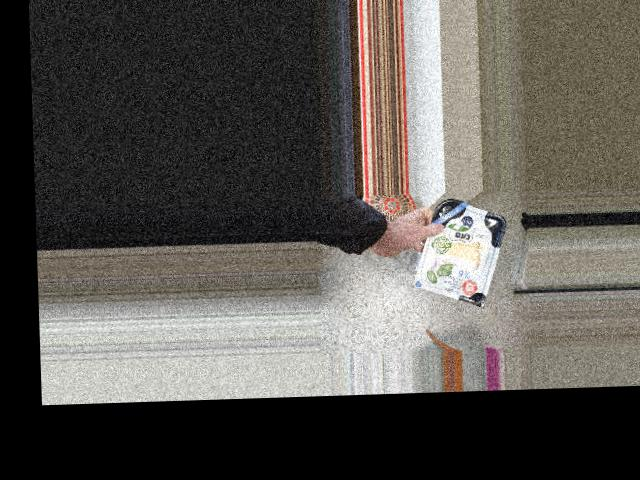cheese: (425, 206, 495, 295)
